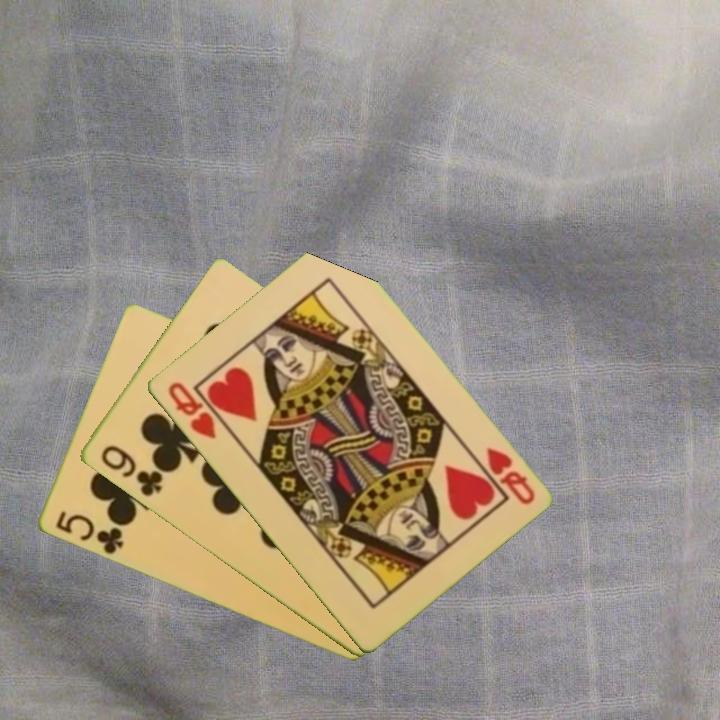5c: (51, 507, 126, 557)
9c: (96, 441, 166, 500)
Qh: (482, 443, 538, 508), (163, 378, 219, 442)
